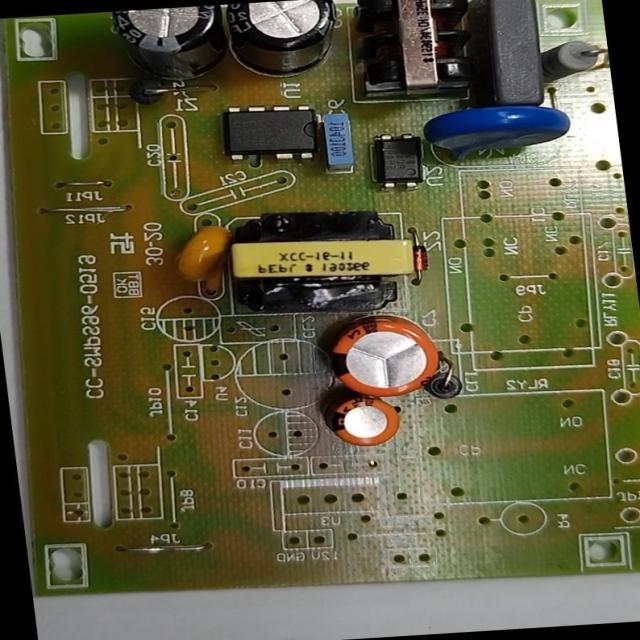Cap1: (289, 301, 453, 400)
Cap2: (313, 388, 411, 458)
Cap3: (220, 0, 358, 89)
Cap4: (107, 6, 236, 94)
MOSFET: (209, 99, 339, 169), (590, 87, 592, 88)
Mov: (414, 96, 588, 170)
Resistor: (530, 32, 612, 92)
Transformer: (218, 199, 446, 326), (331, 0, 494, 109)
